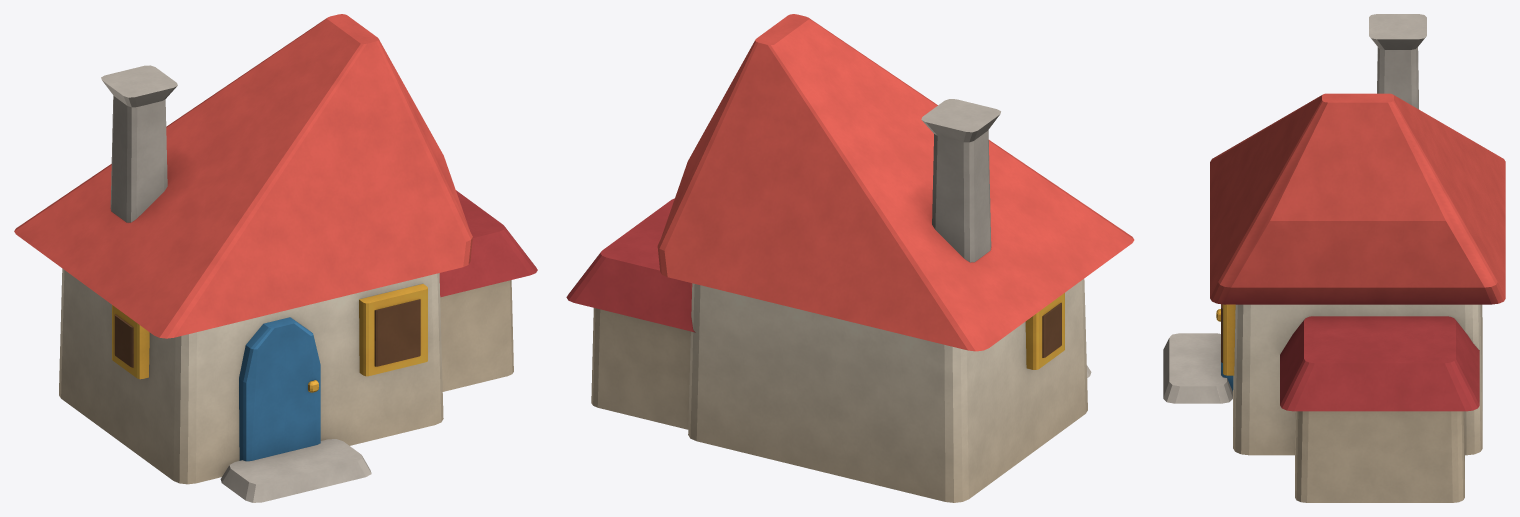
File: d3_cottage.glb
3 views of the same model, side by side, from view 1: azimuth 30°, elevation 25°; view 2: azimuth 150°, elevation 25°; view 3: azimuth 270°, elevation 25° (orthographic). The views are drawn at different scales.
Visible parts, largest first — view 1: Cottage; view 2: Cottage; view 3: Cottage.
Part boxes in pixels (x1,y1,x2,y2): Cottage: (14, 14, 537, 502); Cottage: (566, 14, 1134, 502); Cottage: (1163, 14, 1505, 502).
Bounding box in the file's own units: 4.68 × 3.78 × 3.43.
Materials: 1 (1 with a texture image).
